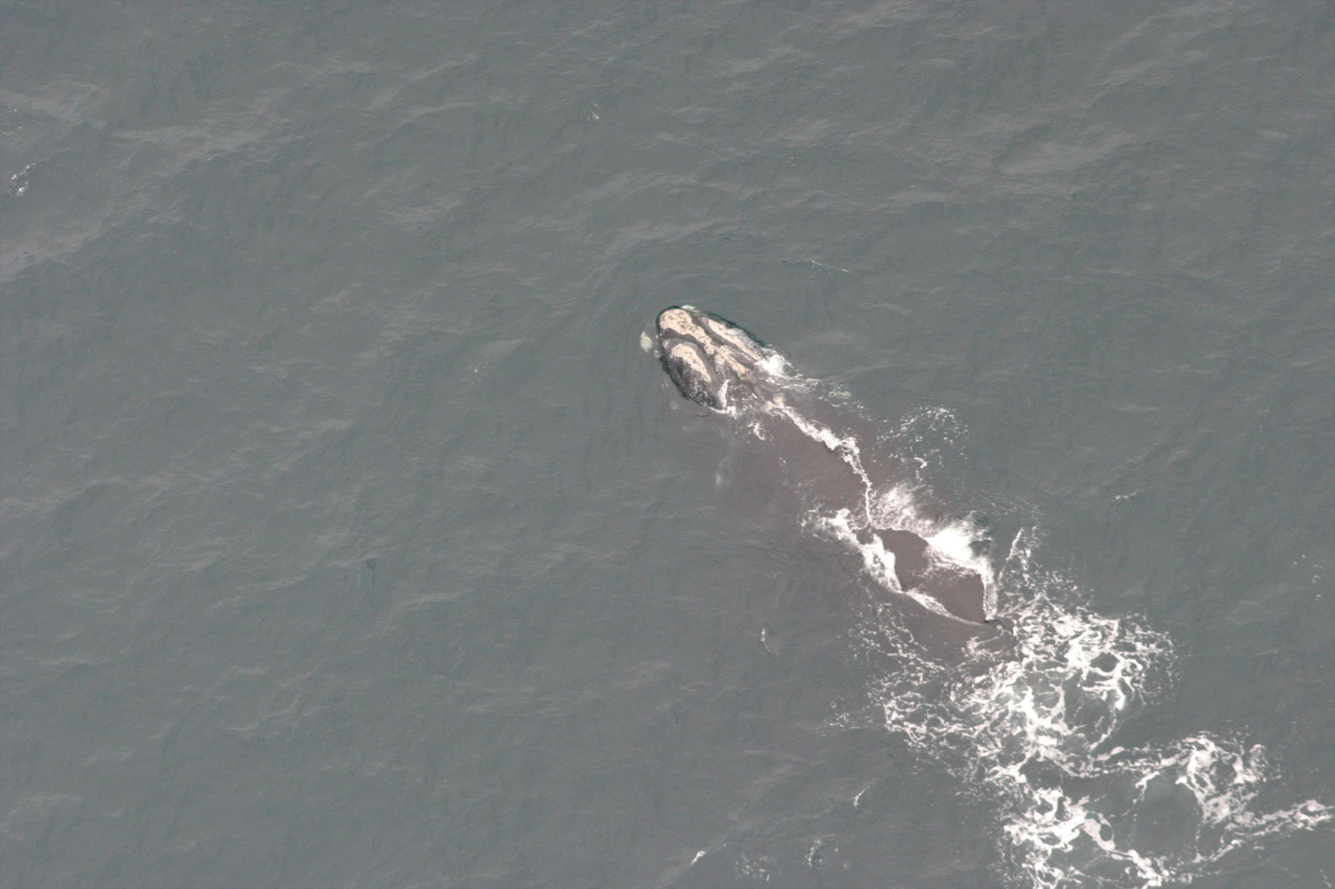whale: (632, 297, 1069, 717)
